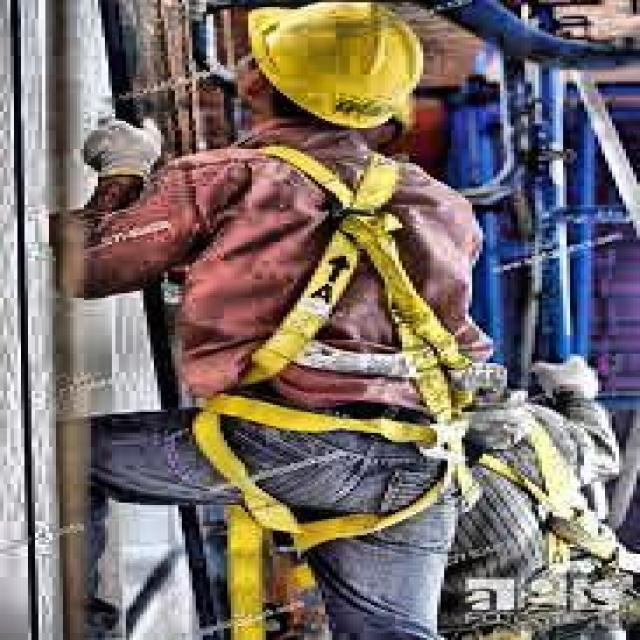belt: (185, 142, 479, 547), (458, 400, 640, 640)
